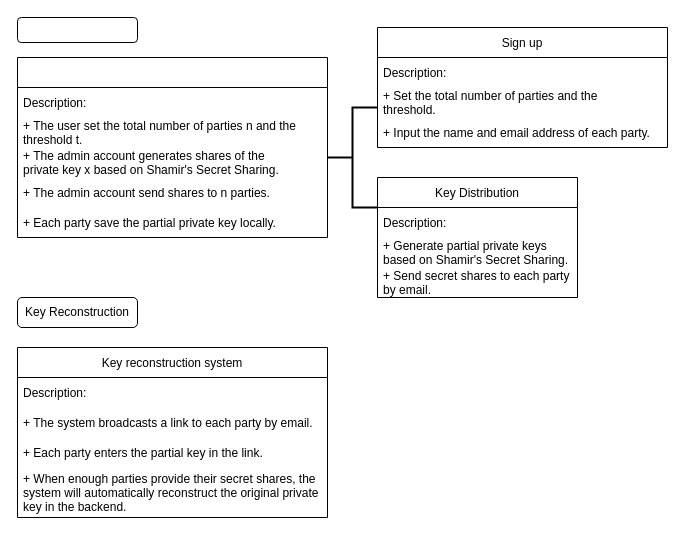
The diagram is 693 pixels wide and 535 high, and some of its shapes have lost their labels. The shapes that lost their labels are listed below. From the top down, each one's box as (x1, y1, x2, y2) in pixels, then its label:
(16, 16, 138, 42): Key Generation
(16, 56, 328, 238): Key generation system
